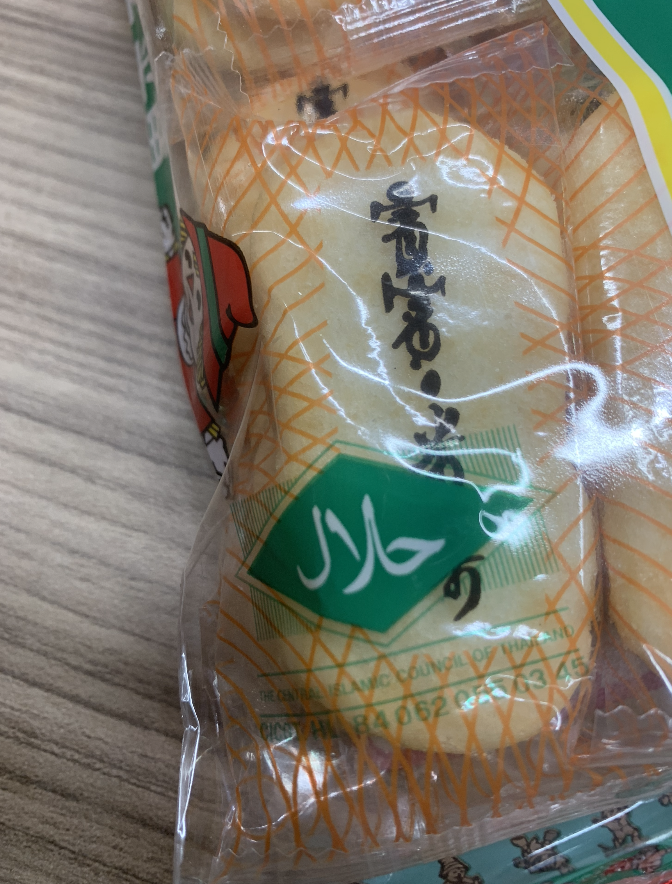halal: (297, 493, 437, 594)
